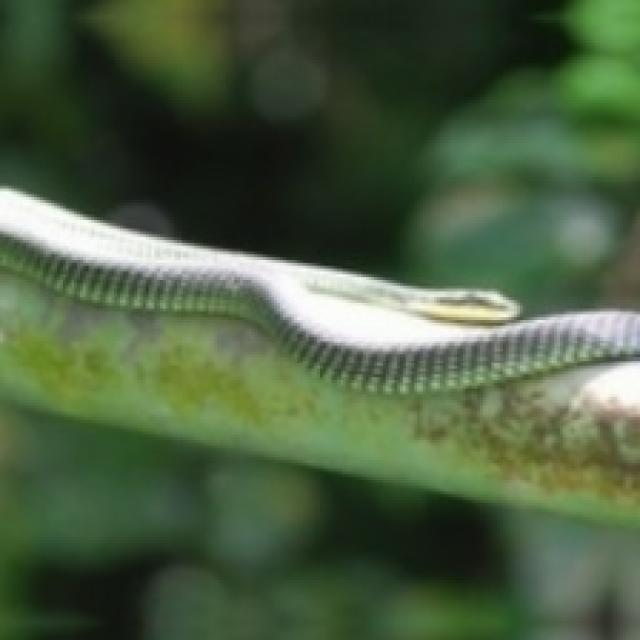paradise tree snake: (0, 189, 637, 391)
